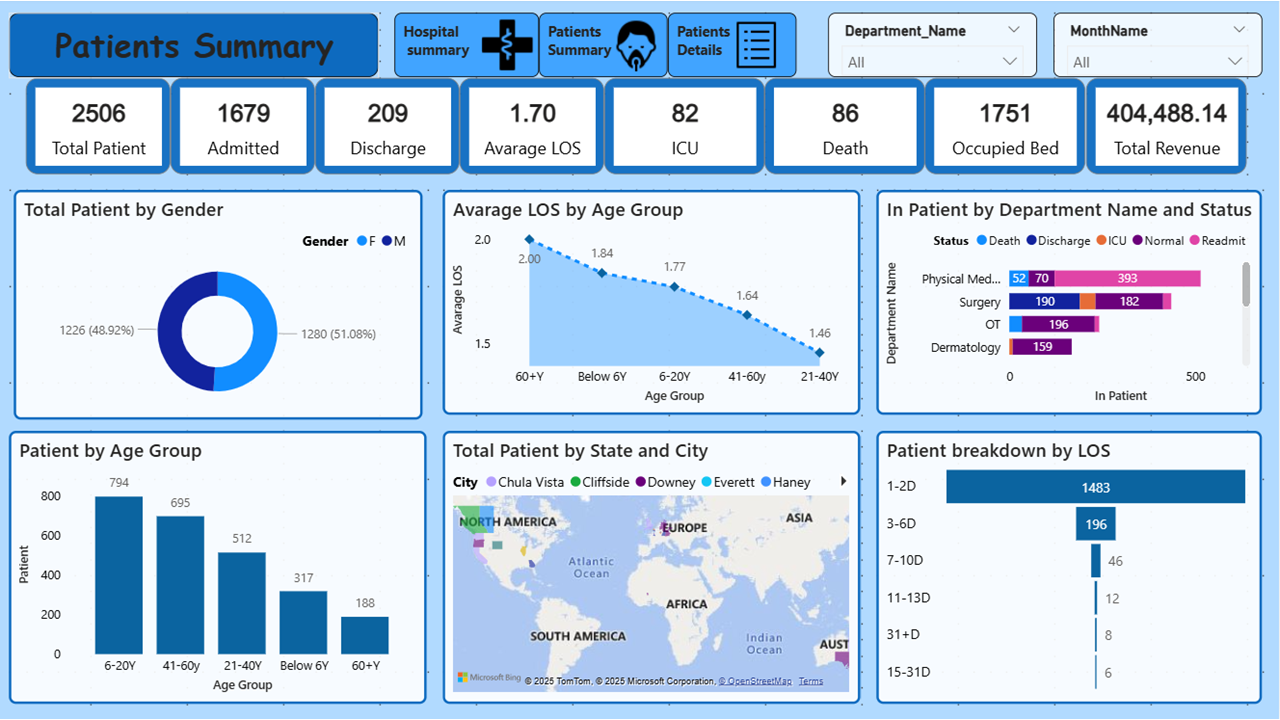

This screenshot's page, from the dashboard's own definition file:
{"tool":"powerbi","page":{"name":"Patients Summary ","canvas":[1280,720],"ordinal":1},"visuals":[{"type":"textbox","box":[672,16,128,64],"z":0},{"type":"cardVisual","fields":{"Data":["Measure.Total Patient"]},"box":[32,80,144,96],"z":1000},{"type":"textbox","box":[16,16,368,64],"z":2000},{"type":"slicer","fields":{"Values":["Department.Department_Name"]},"box":[832,16,208,64],"z":3000},{"type":"slicer","fields":{"Values":["Calendar_date.MonthName"]},"box":[1056,16,208,64],"z":4000},{"type":"cardVisual","fields":{"Data":["Measure.In Patient"]},"box":[176,80,144,96],"z":5000},{"type":"cardVisual","fields":{"Data":["Measure.Total Discharge"]},"box":[320,80,144,96],"z":6000},{"type":"cardVisual","fields":{"Data":["Measure.Avarage LOS"]},"box":[464,80,144,96],"z":7000},{"type":"cardVisual","fields":{"Data":["Measure.ICU"]},"box":[608,80,160,96],"z":8000},{"type":"cardVisual","fields":{"Data":["Measure.Death"]},"box":[768,80,160,96],"z":9000},{"type":"cardVisual","fields":{"Data":["Measure.Occupied Bed"]},"box":[928,80,160,96],"z":10000},{"type":"cardVisual","fields":{"Data":["Measure.Total Revenue"]},"box":[1088,80,160,96],"z":11000},{"type":"donutChart","fields":{"Category":["Detail data dataset.Gender"],"Y":["Measure.Total Patient"]},"box":[20.8,191.9,407.1,228.6],"z":12000},{"type":"columnChart","fields":{"Y":["Measure.Total Patient"],"Category":["Detail data dataset.Age Bucket"]},"box":[16,432,416,272],"z":13000},{"type":"areaChart","fields":{"Y":["Measure.Avarage LOS"],"Category":["Detail data dataset.Age Bucket"]},"box":[448,192,416,224],"z":14000},{"type":"barChart","fields":{"Category":["Department.Department_Name"],"Y":["Measure.In Patient"],"Series":["Detail data dataset.Status"]},"box":[880,192,384,224],"z":15000},{"type":"funnel","title":"Patient breakdown by LOS","fields":{"Y":["Measure.Total Patient"],"Category":["Detail data dataset.Custom"]},"box":[880,432,384,272],"z":16000},{"type":"filledMap","fields":{"Category":["Detail data dataset.State"],"Series":["Detail data dataset.City"]},"box":[448,432,416,272],"z":17000},{"type":"textbox","box":[400,16,144,64],"z":18000},{"type":"image","box":[480,16,64,64],"z":19000},{"type":"textbox","box":[544,16,128,64],"z":20000},{"type":"image","box":[608,16,64,64],"z":21000},{"type":"image","box":[720,16,80,64],"z":22000}]}

Visuals, with their boxes in screenshot pixels (x1, y1, x2, y2), scaled from the page's 1280x720 canvas onto the 1280x720 screenshot:
textbox: <bbox>672, 16, 800, 80</bbox>
cardVisual - Measure.Total Patient: <bbox>32, 80, 176, 176</bbox>
textbox: <bbox>16, 16, 384, 80</bbox>
slicer - Department.Department_Name: <bbox>832, 16, 1040, 80</bbox>
slicer - Calendar_date.MonthName: <bbox>1056, 16, 1264, 80</bbox>
cardVisual - Measure.In Patient: <bbox>176, 80, 320, 176</bbox>
cardVisual - Measure.Total Discharge: <bbox>320, 80, 464, 176</bbox>
cardVisual - Measure.Avarage LOS: <bbox>464, 80, 608, 176</bbox>
cardVisual - Measure.ICU: <bbox>608, 80, 768, 176</bbox>
cardVisual - Measure.Death: <bbox>768, 80, 928, 176</bbox>
cardVisual - Measure.Occupied Bed: <bbox>928, 80, 1088, 176</bbox>
cardVisual - Measure.Total Revenue: <bbox>1088, 80, 1248, 176</bbox>
donutChart - Detail data dataset.Gender x Measure.Total Patient: <bbox>21, 192, 428, 420</bbox>
columnChart - Measure.Total Patient x Detail data dataset.Age Bucket: <bbox>16, 432, 432, 704</bbox>
areaChart - Measure.Avarage LOS x Detail data dataset.Age Bucket: <bbox>448, 192, 864, 416</bbox>
barChart - Department.Department_Name x Measure.In Patient: <bbox>880, 192, 1264, 416</bbox>
"Patient breakdown by LOS" funnel: <bbox>880, 432, 1264, 704</bbox>
filledMap - Detail data dataset.State x Detail data dataset.City: <bbox>448, 432, 864, 704</bbox>
textbox: <bbox>400, 16, 544, 80</bbox>
image: <bbox>480, 16, 544, 80</bbox>
textbox: <bbox>544, 16, 672, 80</bbox>
image: <bbox>608, 16, 672, 80</bbox>
image: <bbox>720, 16, 800, 80</bbox>
